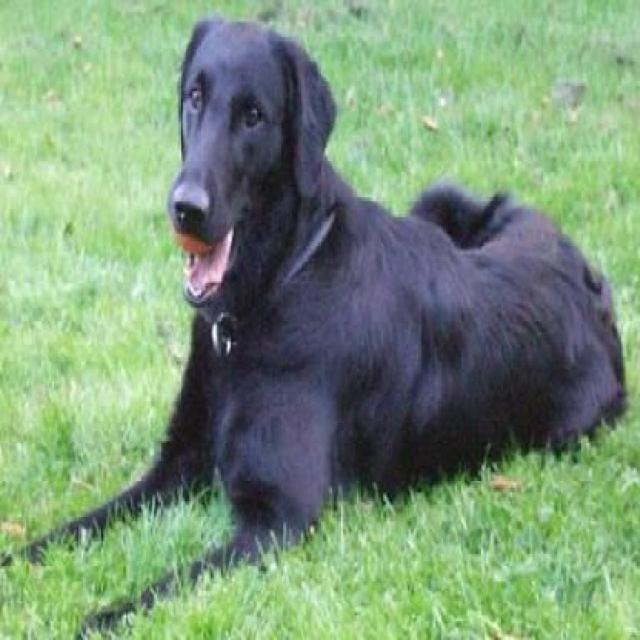Dog: (3, 16, 631, 638)
